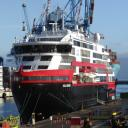cruises: (9, 9, 118, 127)
